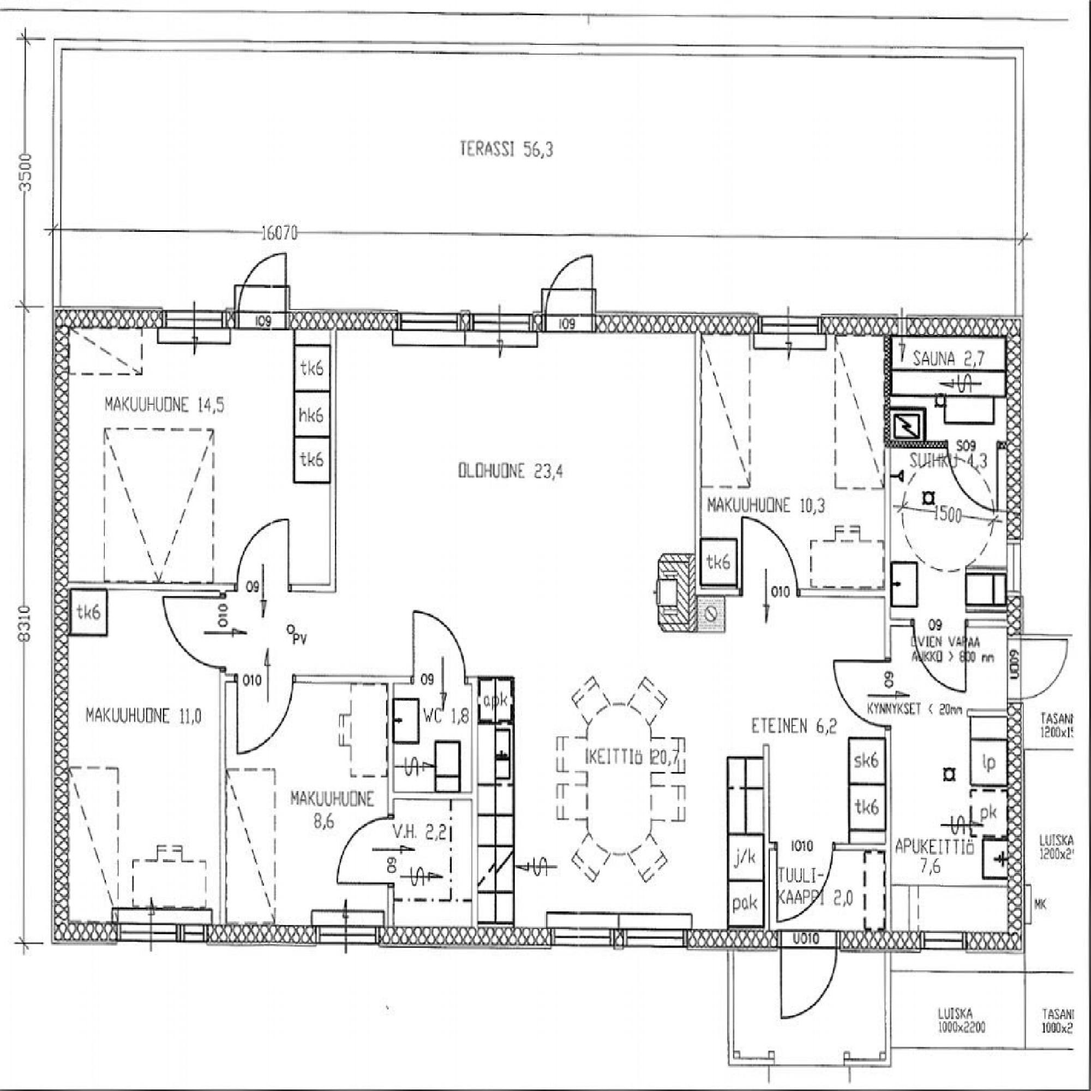wall: (52, 927, 1023, 948), (52, 313, 885, 332), (1007, 313, 1024, 948), (52, 313, 68, 948), (885, 313, 891, 948), (885, 313, 1023, 338), (52, 582, 336, 590), (220, 582, 226, 948), (220, 676, 478, 684), (695, 312, 701, 596), (330, 312, 336, 590), (472, 676, 478, 948), (388, 676, 394, 948), (695, 588, 891, 596), (763, 745, 770, 948), (885, 619, 1023, 628), (885, 440, 1023, 449), (763, 842, 891, 849), (388, 792, 478, 800), (967, 710, 1023, 716)
